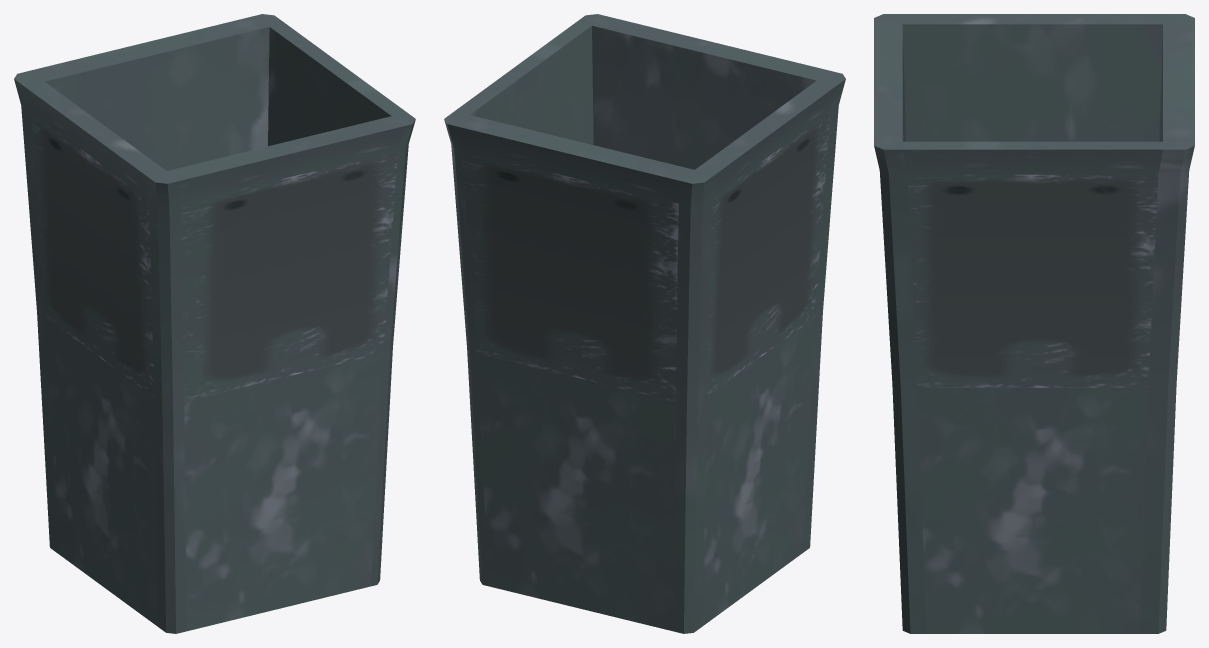
Rendered from Trash_Can.fbx.
3 views of the same model, side by side, from view 1: azimuth 30°, elevation 25°; view 2: azimuth 150°, elevation 25°; view 3: azimuth 270°, elevation 25° (orthographic). The views are drawn at different scales.
Parts seen in each view (by area): view 1: Traschan; view 2: Traschan; view 3: Traschan.
Part boxes in pixels (x1,y1,x2,y2): Traschan: [14, 14, 415, 633]; Traschan: [444, 14, 845, 633]; Traschan: [874, 14, 1194, 633].
Bounding box in the file's own units: 40.3 × 68.79 × 40.3.
